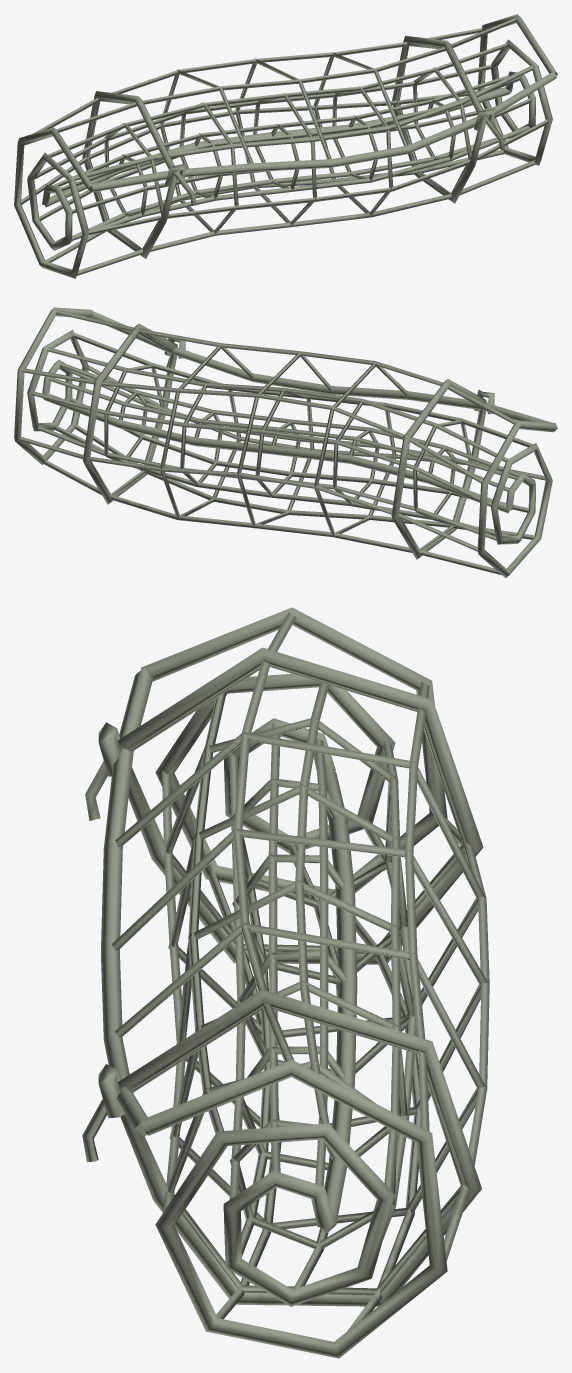
The model's file is lake_fishing_net_rolled.glb.
3 views of the same model, one above another, from view 1: azimuth 30°, elevation 25°; view 2: azimuth 150°, elevation 25°; view 3: azimuth 270°, elevation 25° (orthographic). The views are drawn at different scales.
Parts seen in each view (by area): view 1: FishingNetRolled; view 2: FishingNetRolled; view 3: FishingNetRolled.
Part boxes in pixels (x1=…): FishingNetRolled: x1=14, y1=14, x2=557, y2=278; FishingNetRolled: x1=14, y1=307, x2=557, y2=578; FishingNetRolled: x1=82, y1=607, x2=489, y2=1358.
Bounding box in the file's own units: 0.8 × 0.2907 × 0.3.
Materials: 1 (1 with a texture image).
